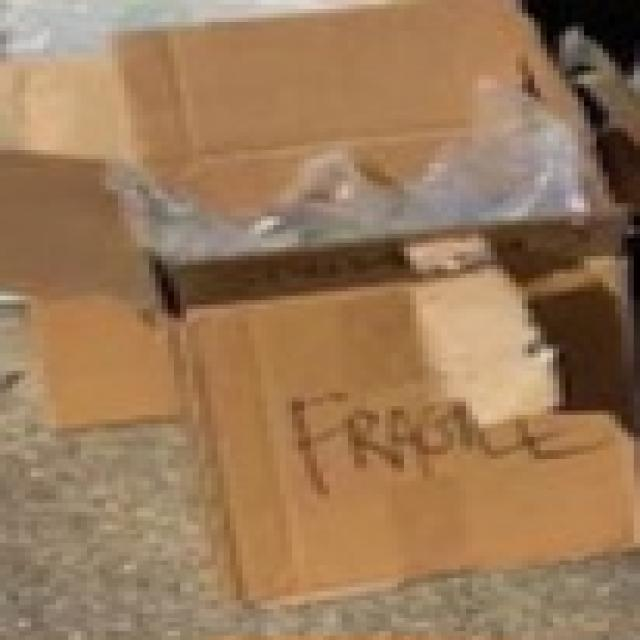cardboard: (52, 0, 640, 625)
